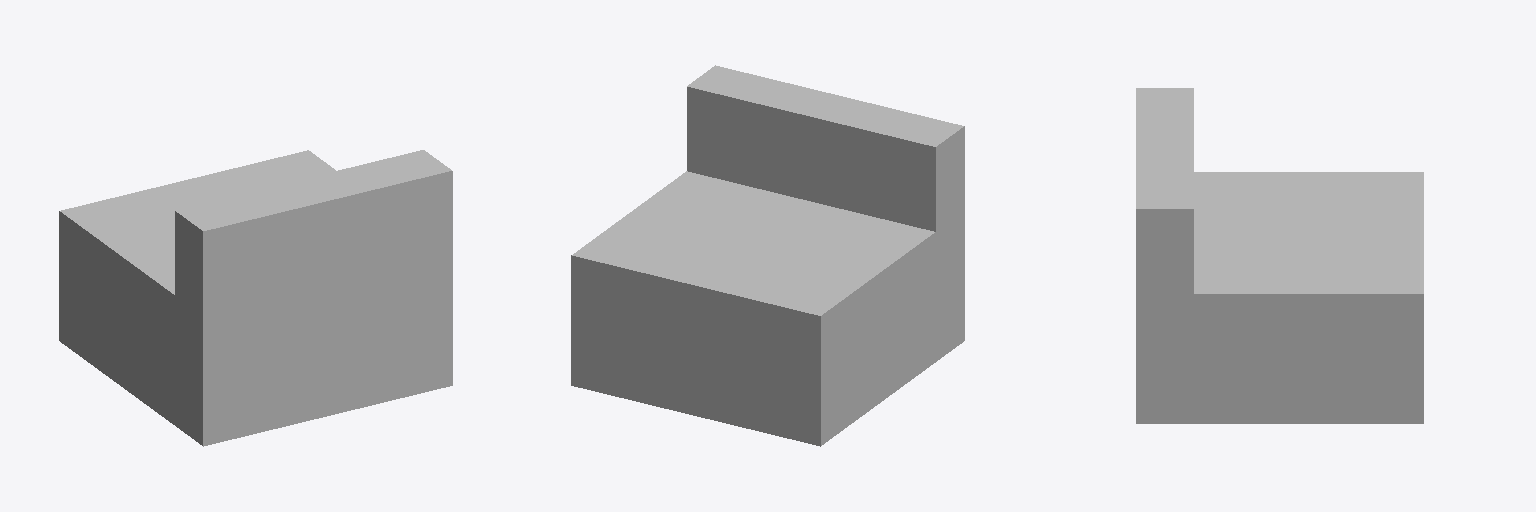
The model's file is Ledge_Block_SML_NG.obj.
3 views of the same model, side by side, from view 1: azimuth 30°, elevation 25°; view 2: azimuth 150°, elevation 25°; view 3: azimuth 270°, elevation 25° (orthographic).
Visible parts, largest first — view 1: Ledge_Block_SML_NG; view 2: Ledge_Block_SML_NG; view 3: Ledge_Block_SML_NG.
Part boxes in pixels (x1,y1,x2,y2): Ledge_Block_SML_NG: (59,150,452,446); Ledge_Block_SML_NG: (571,65,964,446); Ledge_Block_SML_NG: (1136,88,1423,423).
Bounding box in the file's own units: 10 × 8.25 × 10.